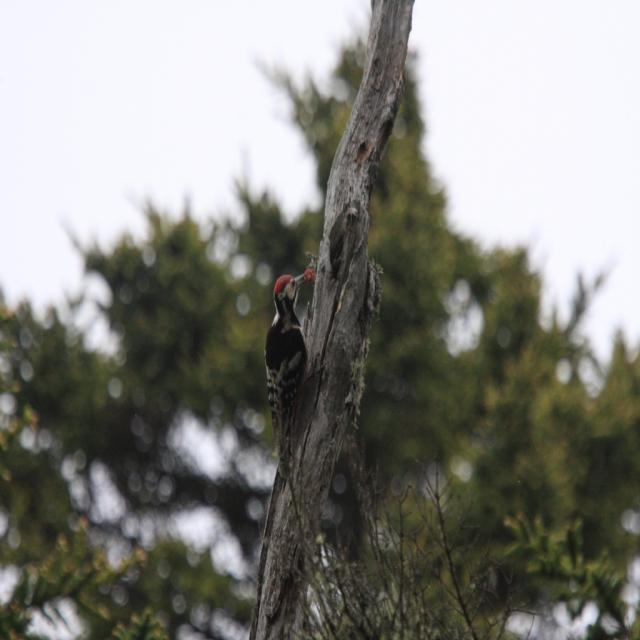bird: (265, 271, 313, 426)
